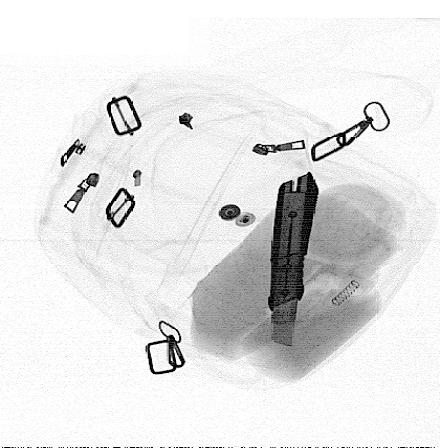Knife: (267, 170, 319, 348)
